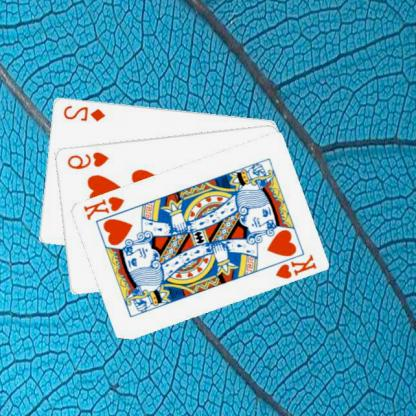2D: (62, 102, 108, 122)
9H: (66, 148, 112, 171)
KH: (274, 251, 320, 280), (82, 193, 127, 222)
